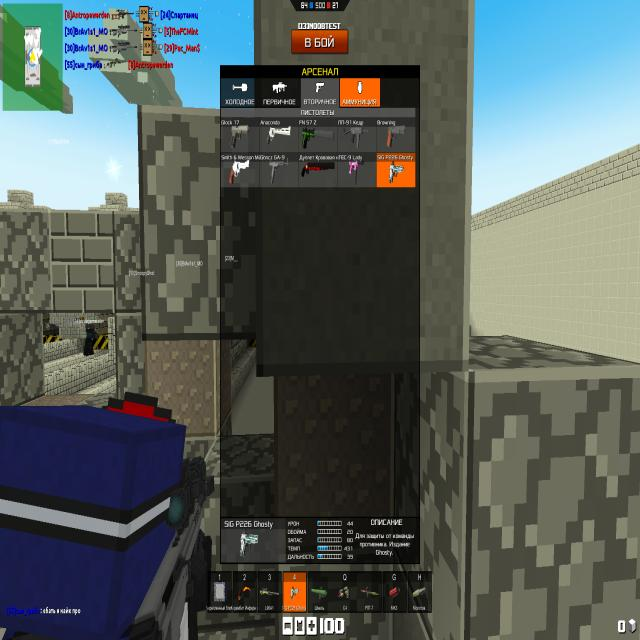player: (0, 408, 207, 636), (83, 325, 98, 354)
